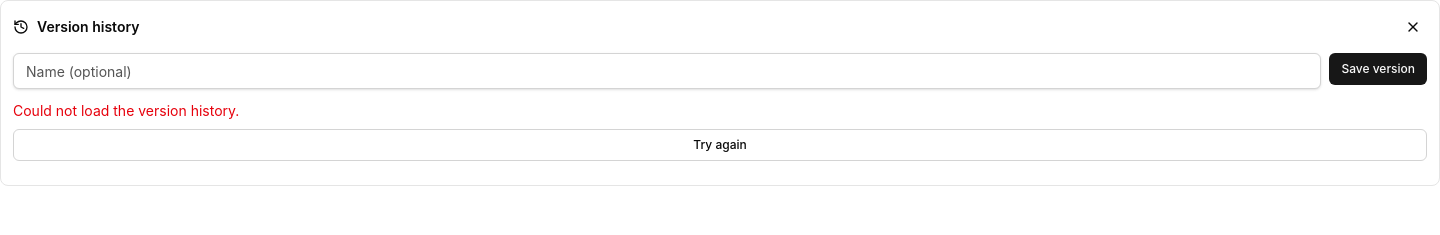
VersionsPanel › says when the history cannot be read and reads it again on "Try again"
The width and height of the screenshot is (1440, 235).
Expected: the message shows "Could not load the version history.", [13,102,239,119]
Click the button "Try again".
click(720, 145)  # box [13,129,1427,161]
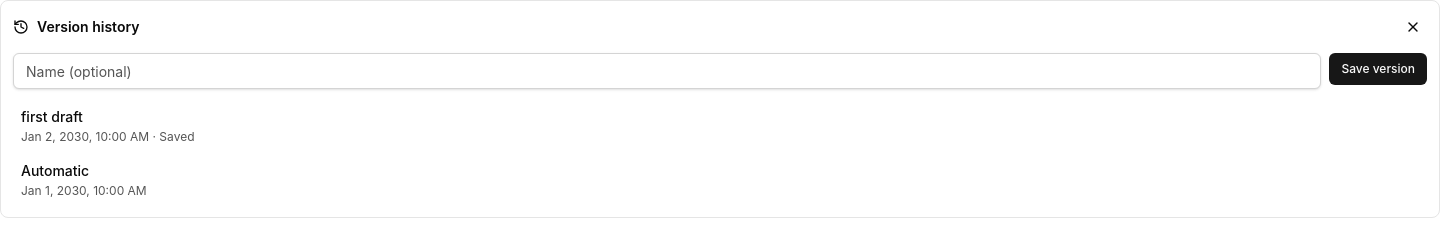
Now the button "first draft Jan 2, 2030, 10:00 AM · Saved" is shown, box [13,101,1427,151]
Now the message "Could not load the version history. Try again" is gone
